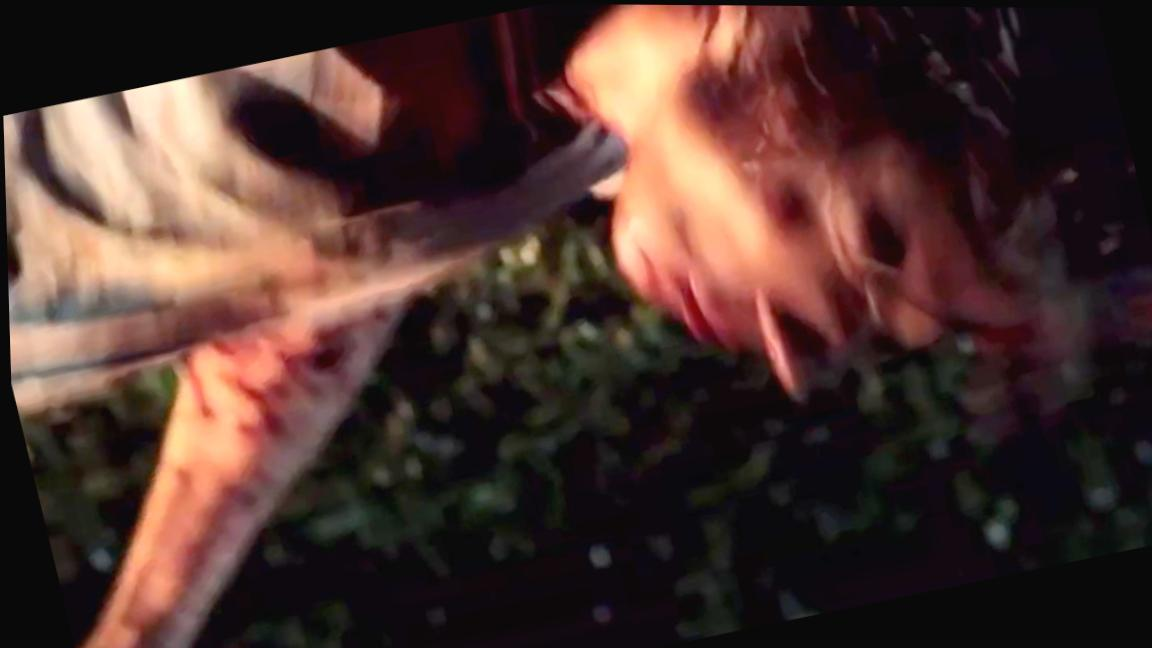Fire: (92, 305, 399, 648)
